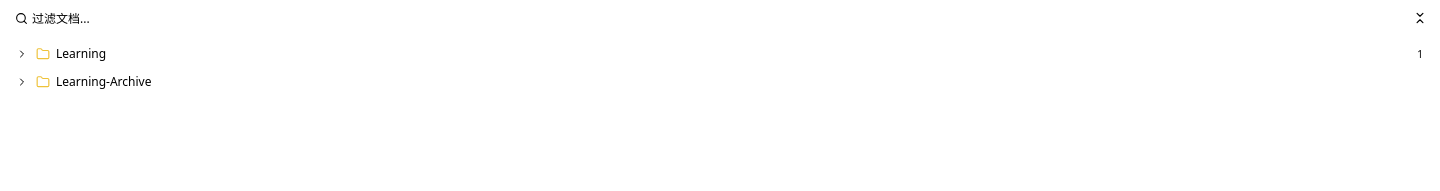
Test case: FileTree › filters file tree nodes based on search query
Type "Chapter" into the field with class "tree-search-input" at (706, 18), box [8,6,1404,30]
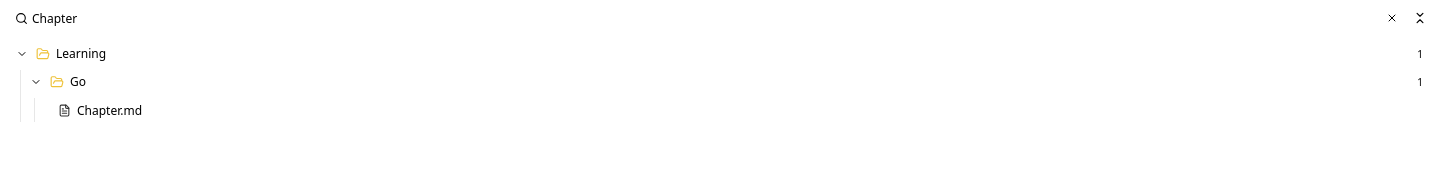
Result: the button "Chapter.md" is shown at [4,96,1436,124]
Clearing search restores all
Click the button with class "search-clear-btn" at (1392, 18), box [1384,10,1400,26]
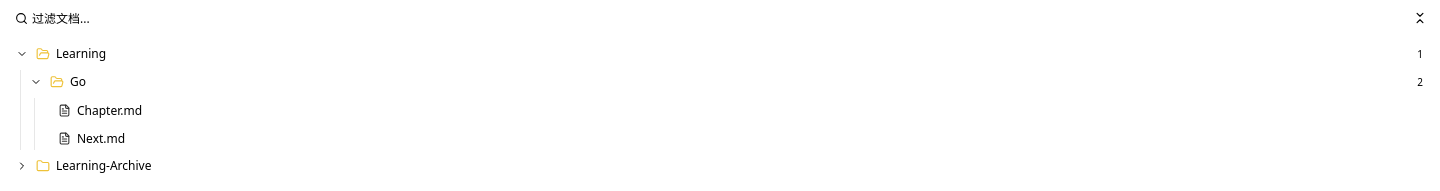
Result: the element showing "Learning-Archive" is shown at [14,157,151,174]
